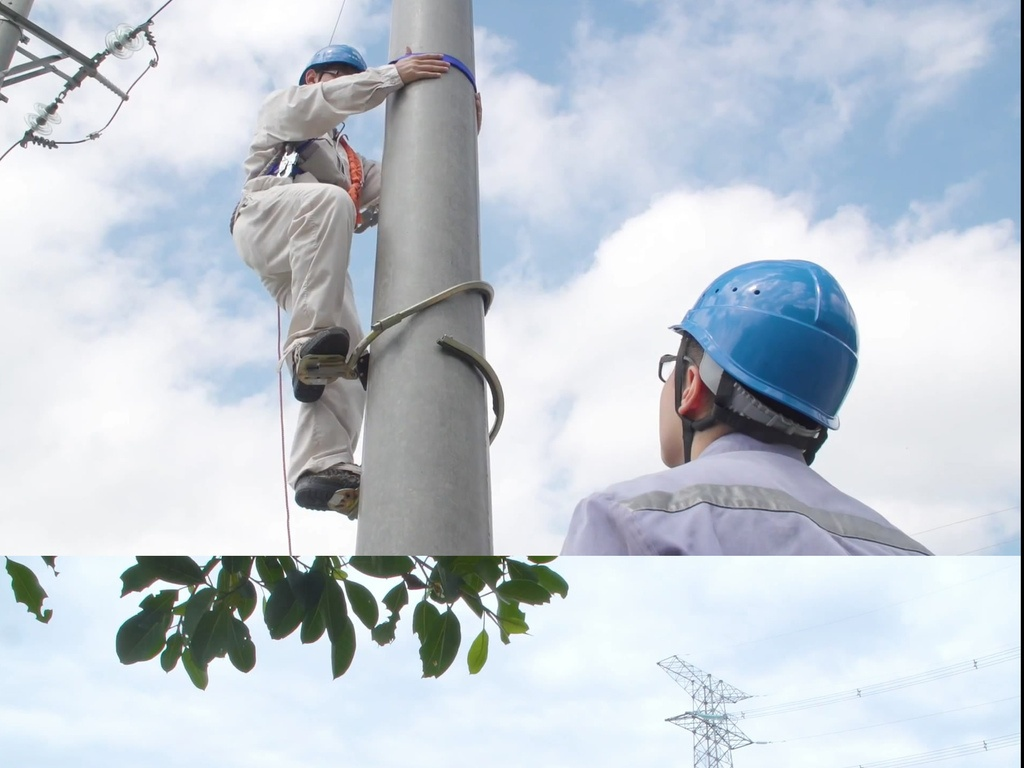blue: (639, 253, 867, 474), (291, 43, 373, 110)
